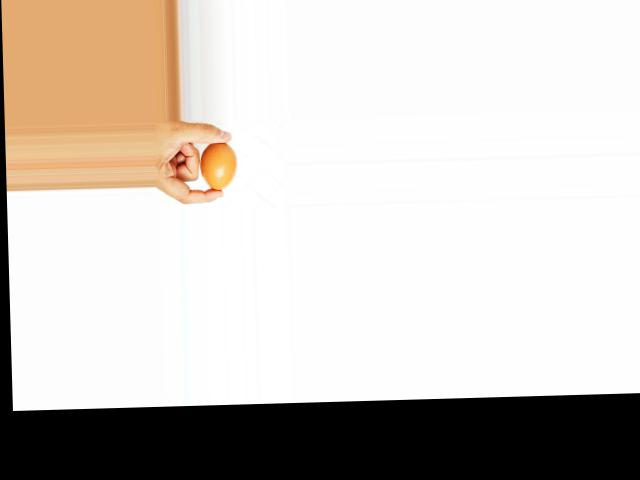egg: (199, 142, 238, 191)
